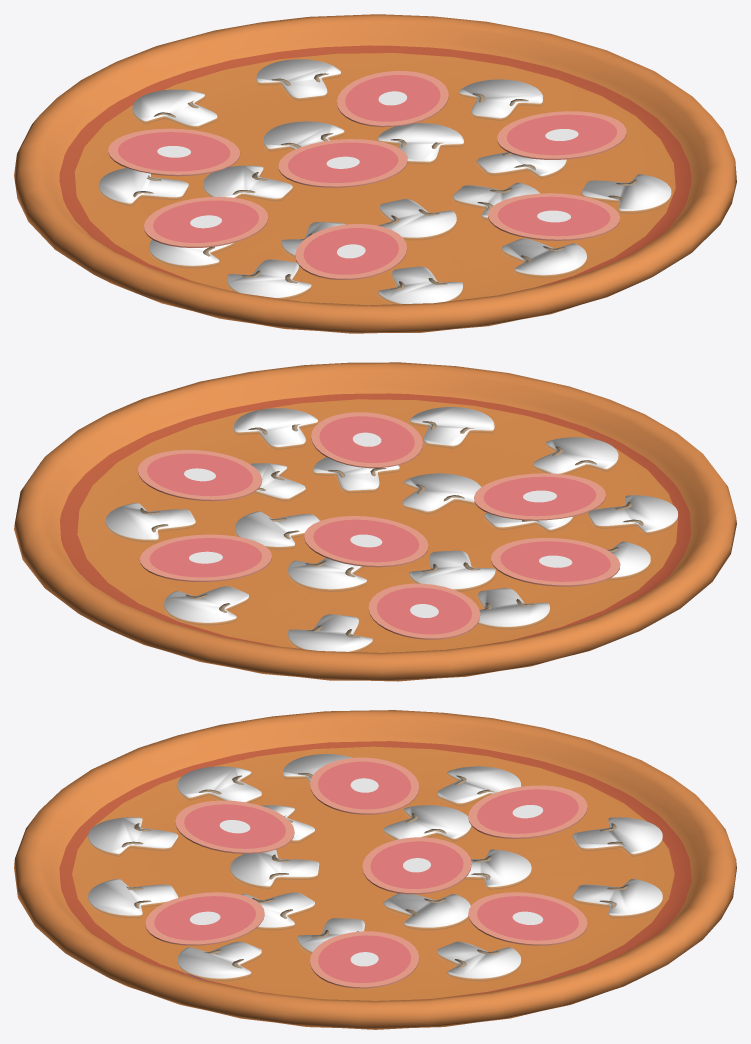
File: pizza_z_szynka_pieczarki.gltf
3 renders of one model, top to bottom at view 1: azimuth 30°, elevation 25°; view 2: azimuth 150°, elevation 25°; view 3: azimuth 270°, elevation 25°, orthographic.
Visible parts, largest first — view 1: Cylinder, Circle.002, Circle.001, Sphere.003, Sphere.005, Sphere.001, Sphere.002; view 2: Cylinder, Circle.002, Circle.001, Sphere.003, Sphere.005, Sphere.001, Sphere.002; view 3: Cylinder, Circle.002, Circle.001, Sphere.003, Sphere.005, Sphere.001, Sphere.002.
Boxes of the visible parts, box(x1,y1,x2,y2) form: Cylinder: box(14, 14, 736, 333); Circle.002: box(59, 45, 691, 304); Circle.001: box(75, 53, 675, 305); Sphere.003: box(98, 59, 671, 303); Sphere.005: box(108, 71, 619, 279); Sphere.001: box(144, 111, 626, 247); Sphere.002: box(278, 139, 407, 187); Cylinder: box(14, 362, 736, 681); Circle.002: box(60, 393, 690, 652); Circle.001: box(77, 399, 677, 652); Sphere.003: box(105, 407, 678, 651); Sphere.005: box(140, 412, 605, 639); Sphere.001: box(138, 450, 620, 586); Sphere.002: box(304, 516, 428, 567); Cylinder: box(14, 710, 736, 1029); Circle.002: box(59, 741, 691, 1000); Circle.001: box(72, 746, 674, 1000); Sphere.003: box(88, 754, 662, 980); Sphere.005: box(145, 785, 587, 945); Sphere.001: box(310, 757, 419, 988); Sphere.002: box(362, 837, 471, 894).
Size of the model in its own units: 1.44 by 0.0648 by 1.44.
Materials: 9 (9 with a texture image).
